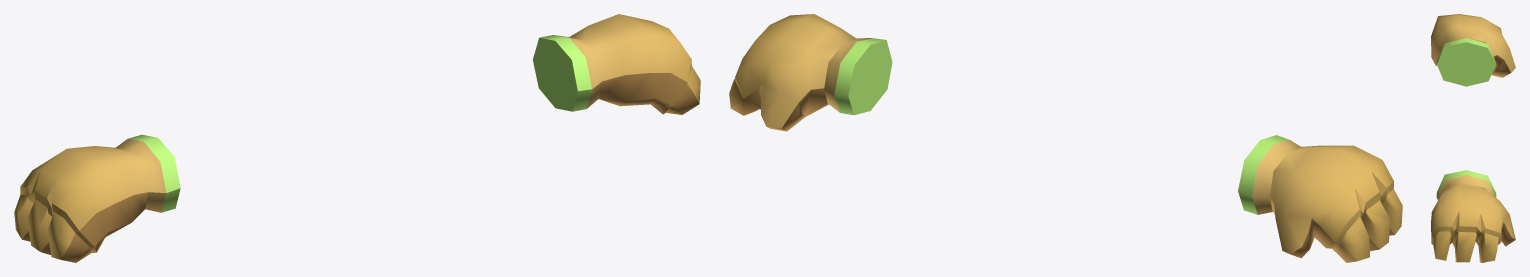
File: Glove_9.fbx
3 renders of one model, left to right at view 1: azimuth 30°, elevation 25°; view 2: azimuth 150°, elevation 25°; view 3: azimuth 270°, elevation 25°, orthographic. The views are drawn at different scales.
Parts seen in each view (by area): view 1: Glove_9; view 2: Glove_9; view 3: Glove_9.
Part boxes in pixels (left/top/right/bottom): Glove_9: left=14, top=14, right=700, bottom=262; Glove_9: left=729, top=14, right=1402, bottom=262; Glove_9: left=1431, top=14, right=1515, bottom=262.
Size of the model in its own units: 138 by 18.46 by 23.77.
